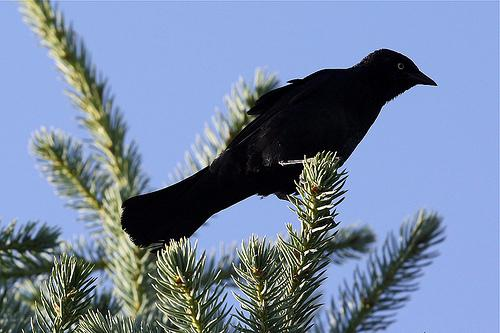009.Brewer_Blackbird: (121, 48, 439, 250)
